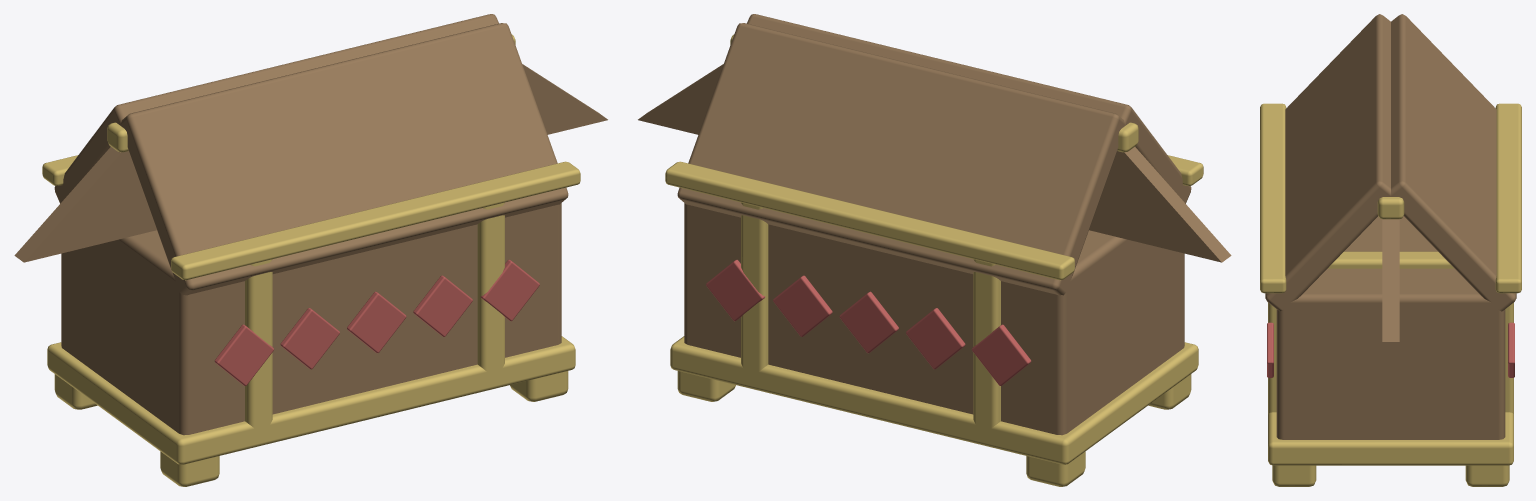
The model's file is reliquary-casket.glb.
3 views of the same model, side by side, from view 1: azimuth 30°, elevation 25°; view 2: azimuth 150°, elevation 25°; view 3: azimuth 270°, elevation 25° (orthographic). The views are drawn at different scales.
Visible parts, largest first — view 1: reliquary-casket, lid-casket/oak, lid-casket/brass; view 2: reliquary-casket, lid-casket/oak, lid-casket/brass; view 3: reliquary-casket, lid-casket/oak, lid-casket/brass.
Part boxes in pixels (left/top/right/bottom): reliquary-casket: left=47, top=199, right=575, bottom=486; lid-casket/oak: left=14, top=14, right=607, bottom=295; lid-casket/brass: left=42, top=34, right=580, bottom=280; reliquary-casket: left=670, top=199, right=1198, bottom=486; lid-casket/oak: left=638, top=14, right=1231, bottom=295; lid-casket/brass: left=665, top=34, right=1203, bottom=280; reliquary-casket: left=1267, top=216, right=1514, bottom=486; lid-casket/oak: left=1265, top=14, right=1516, bottom=341; lid-casket/brass: left=1260, top=103, right=1521, bottom=293.
Bounding box in the file's own units: 0.704 × 0.3825 × 0.298.
